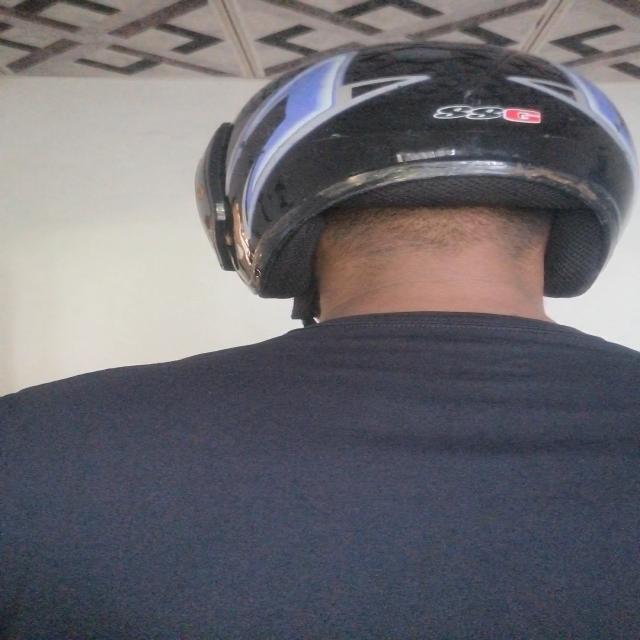Helmet_Wearer: (166, 21, 640, 402)
Person: (0, 34, 640, 605)
